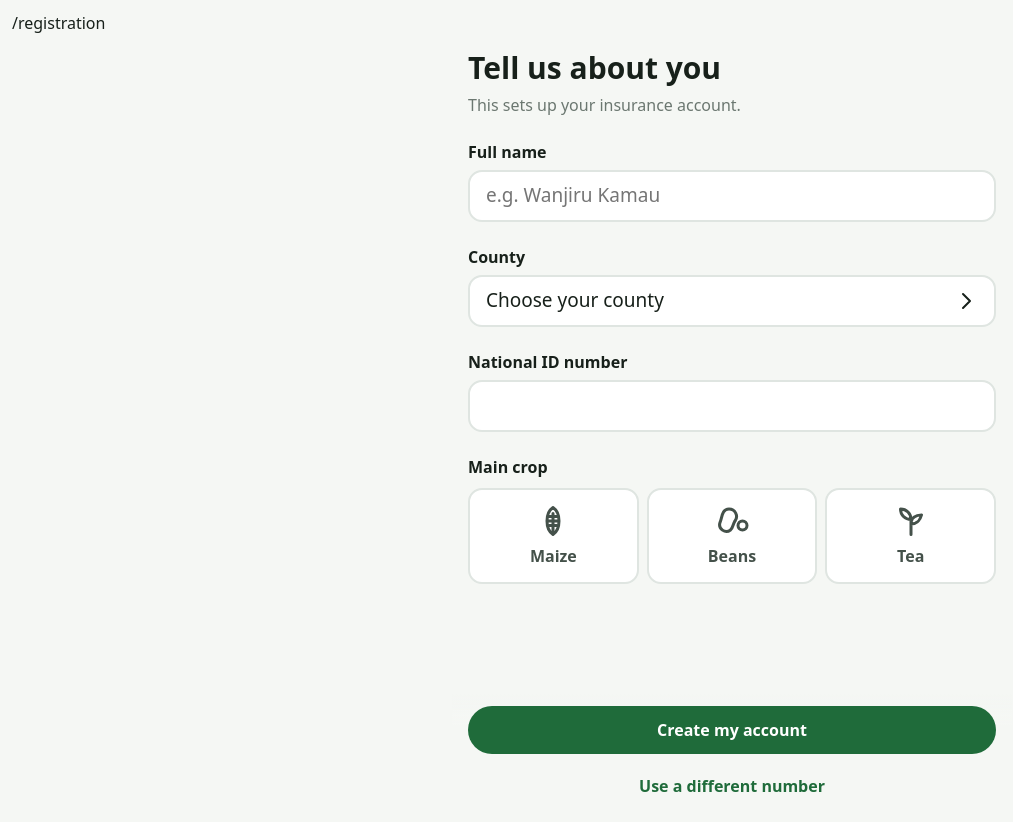
Test: a new user can leave registration to use a different number
The image size is (1013, 822).
Click the button "Use a different number": (732, 786) [468,762,996,810]
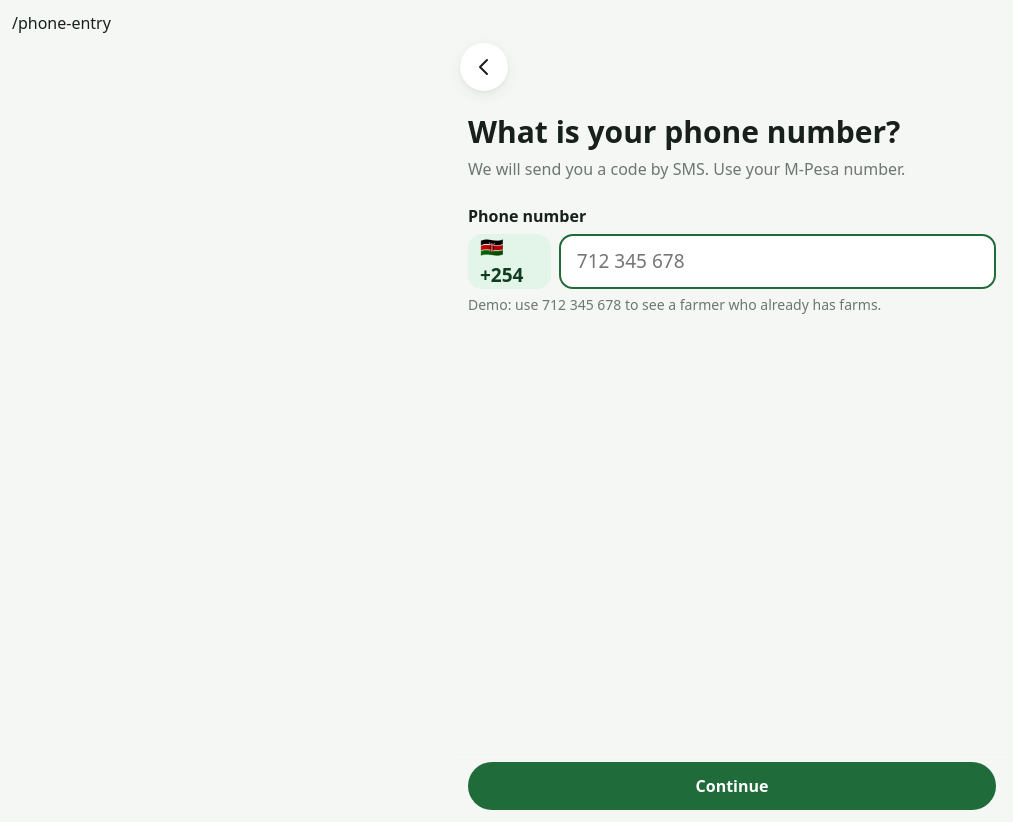
Result: the heading "What is your phone number?" is shown at [468,111,900,152]
Result: the text with test id "where" reads "/phone-entry" at [12,12,111,34]
